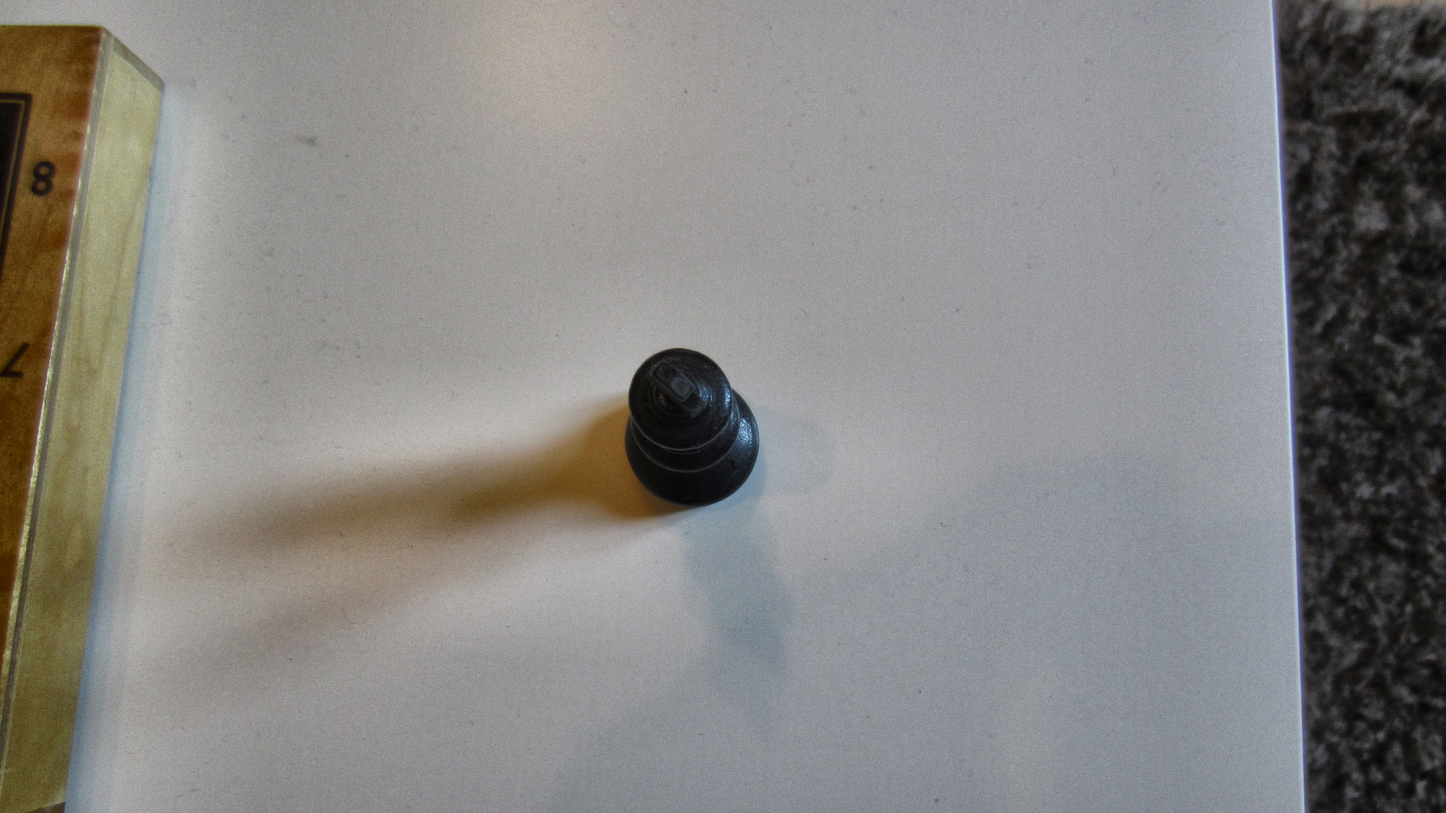black-king: (623, 347, 762, 508)
